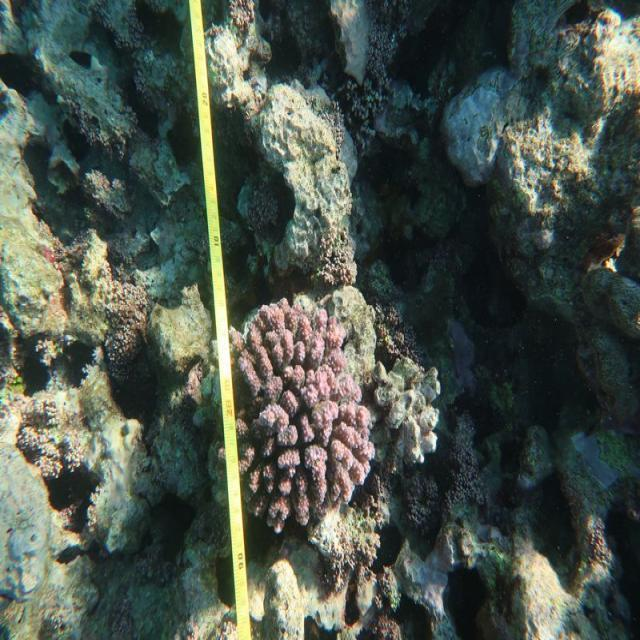Healthy Coral: (228, 304, 385, 533)
